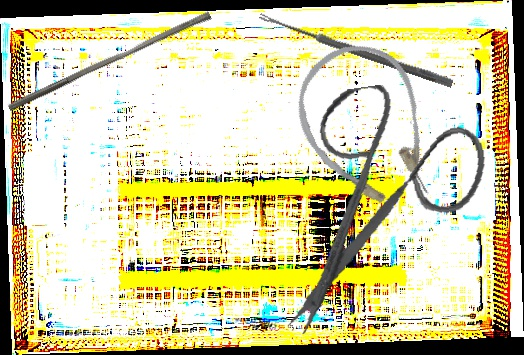Cannula: (276, 26, 458, 232)
Iris Scissors: (252, 71, 508, 337)
Pusher: (7, 3, 212, 120)
Surgical Spoon: (257, 12, 455, 88)
